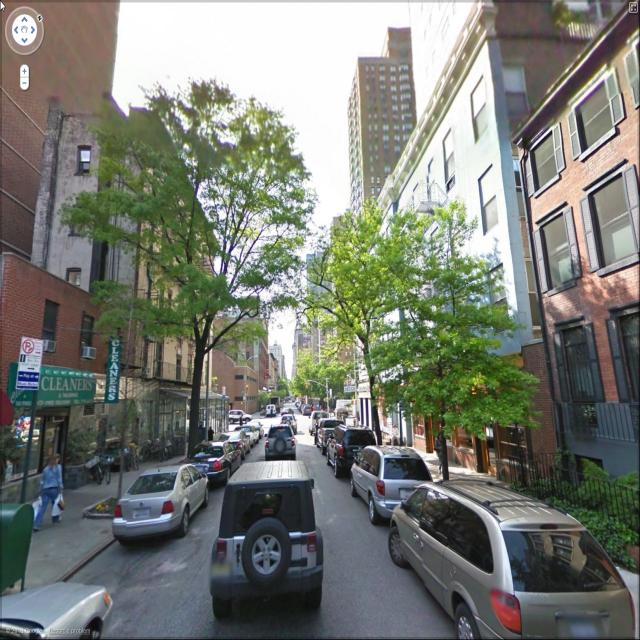b_1: (533, 22, 640, 463), (335, 31, 426, 232)
b_2: (394, 37, 532, 491), (108, 99, 213, 423), (282, 223, 408, 428), (0, 239, 121, 451), (182, 284, 292, 428)
